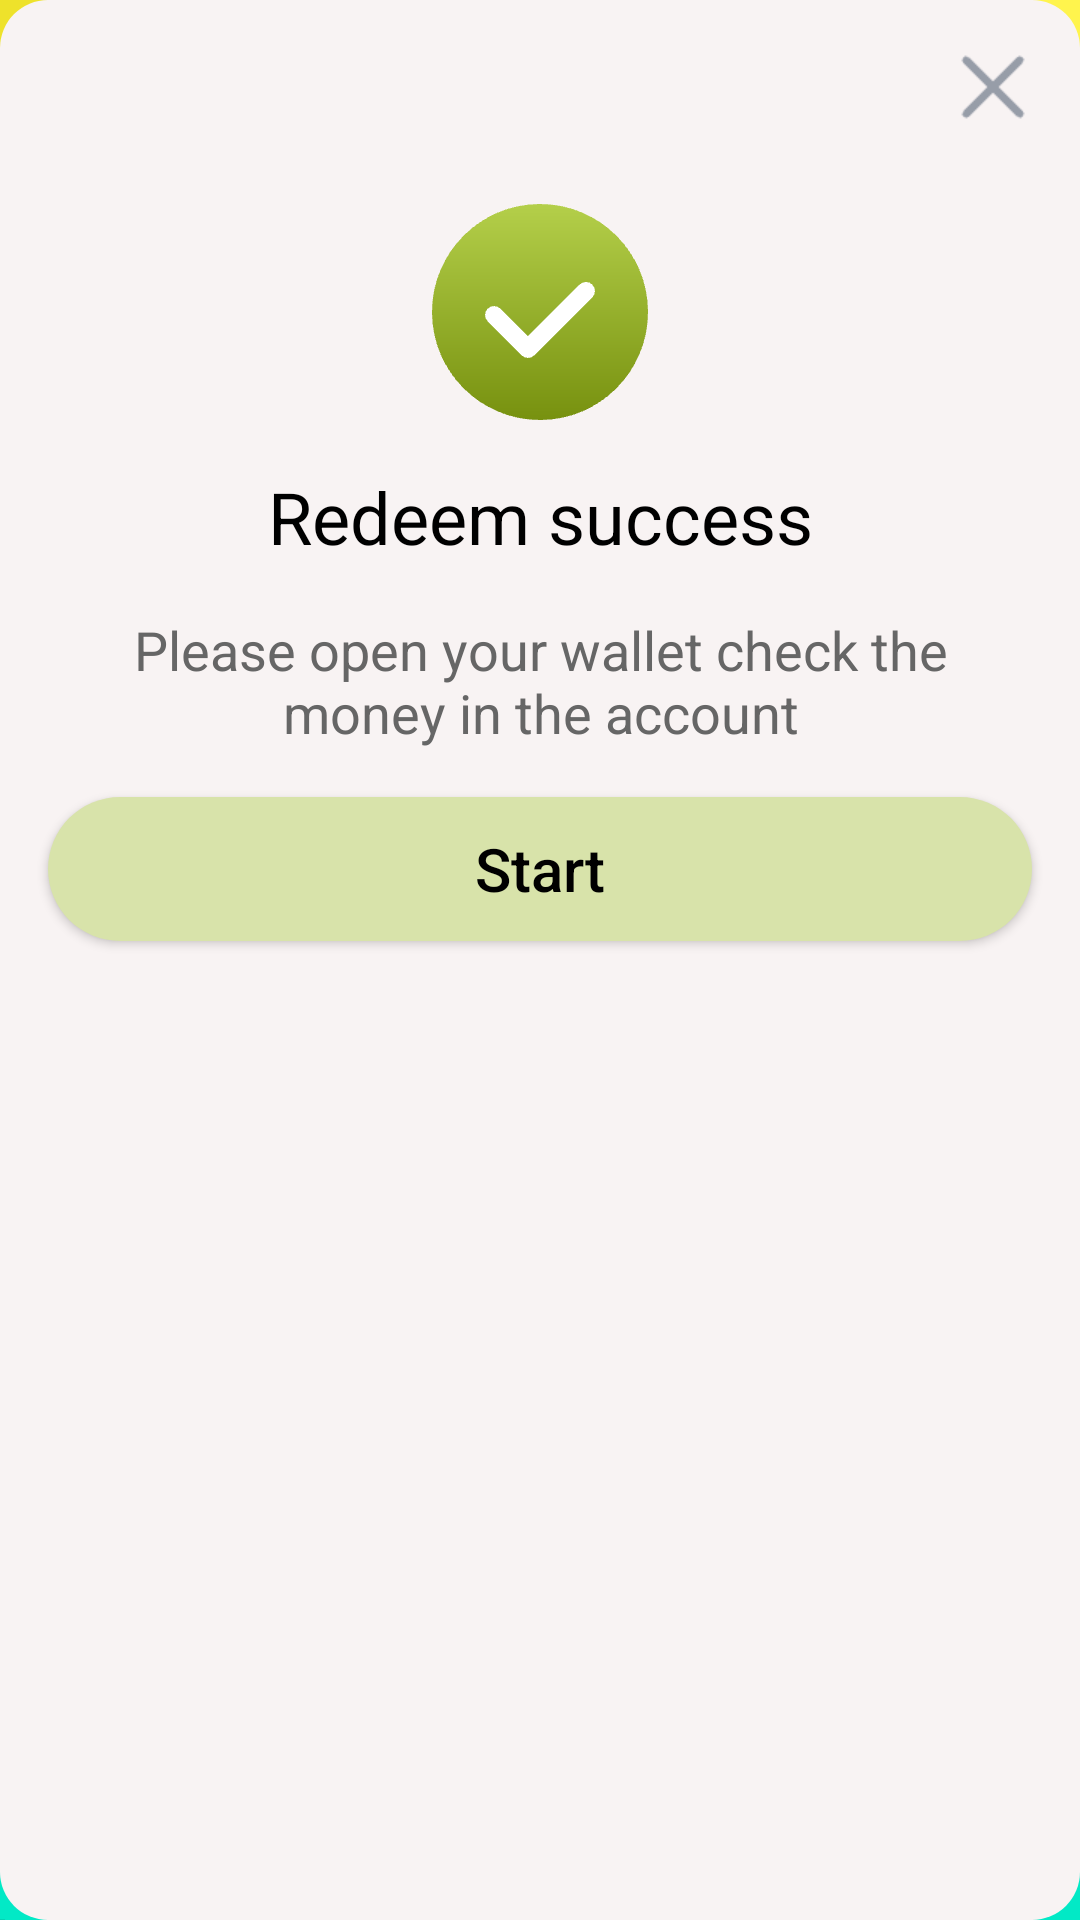

Point at icon controls on the screen. Image size 1080 × 1920, points as point (x, y).
close: point (993, 87)
